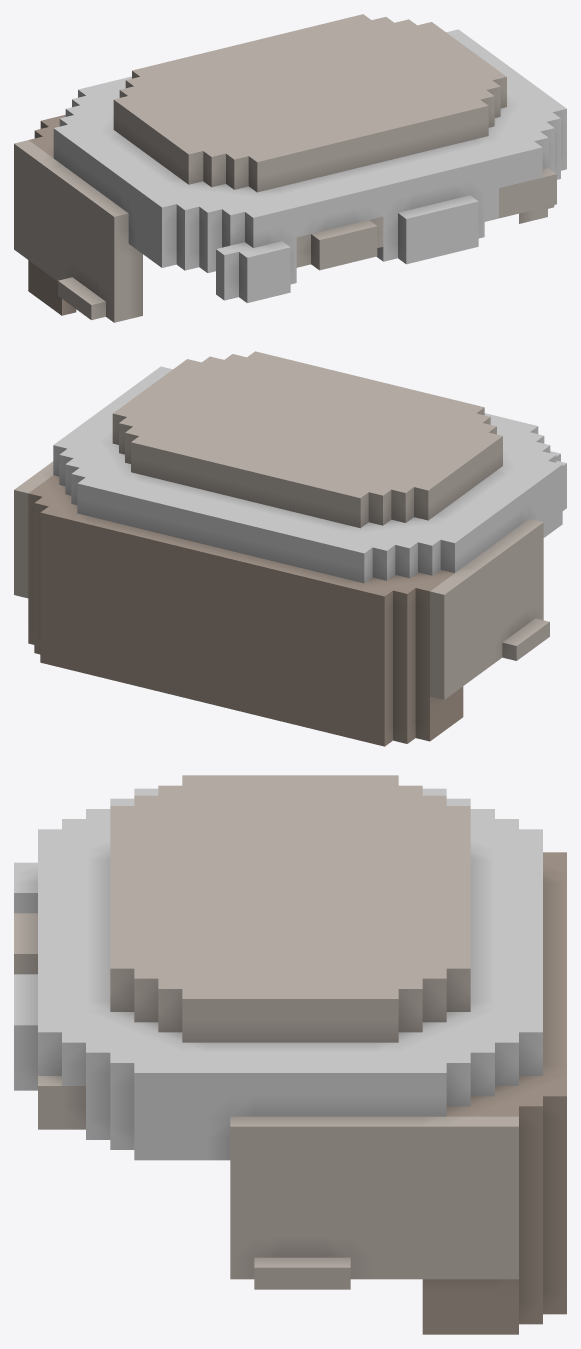
The model's file is hair_f_cropped.glb.
3 views of the same model, one above another, from view 1: azimuth 30°, elevation 25°; view 2: azimuth 150°, elevation 25°; view 3: azimuth 270°, elevation 25° (orthographic). The views are drawn at different scales.
Visible parts, largest first — view 1: VoxelVisual; view 2: VoxelVisual; view 3: VoxelVisual.
Boxes of the visible parts, x1,y1,x2,y2 form: VoxelVisual: (14, 14, 566, 322); VoxelVisual: (14, 351, 566, 746); VoxelVisual: (14, 775, 566, 1334).
Size of what is drawn, in the model's own units: 2 by 0.875 by 1.44.
